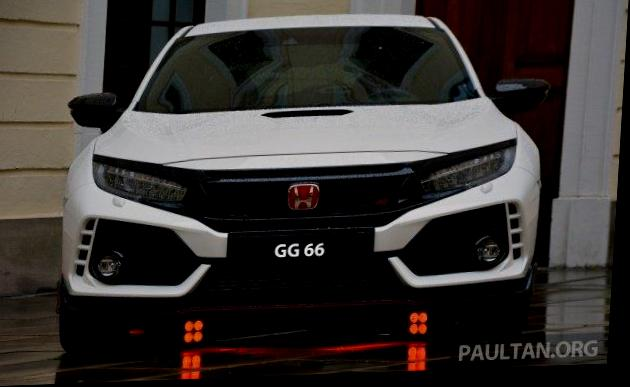License_Plate: (222, 224, 376, 268)
